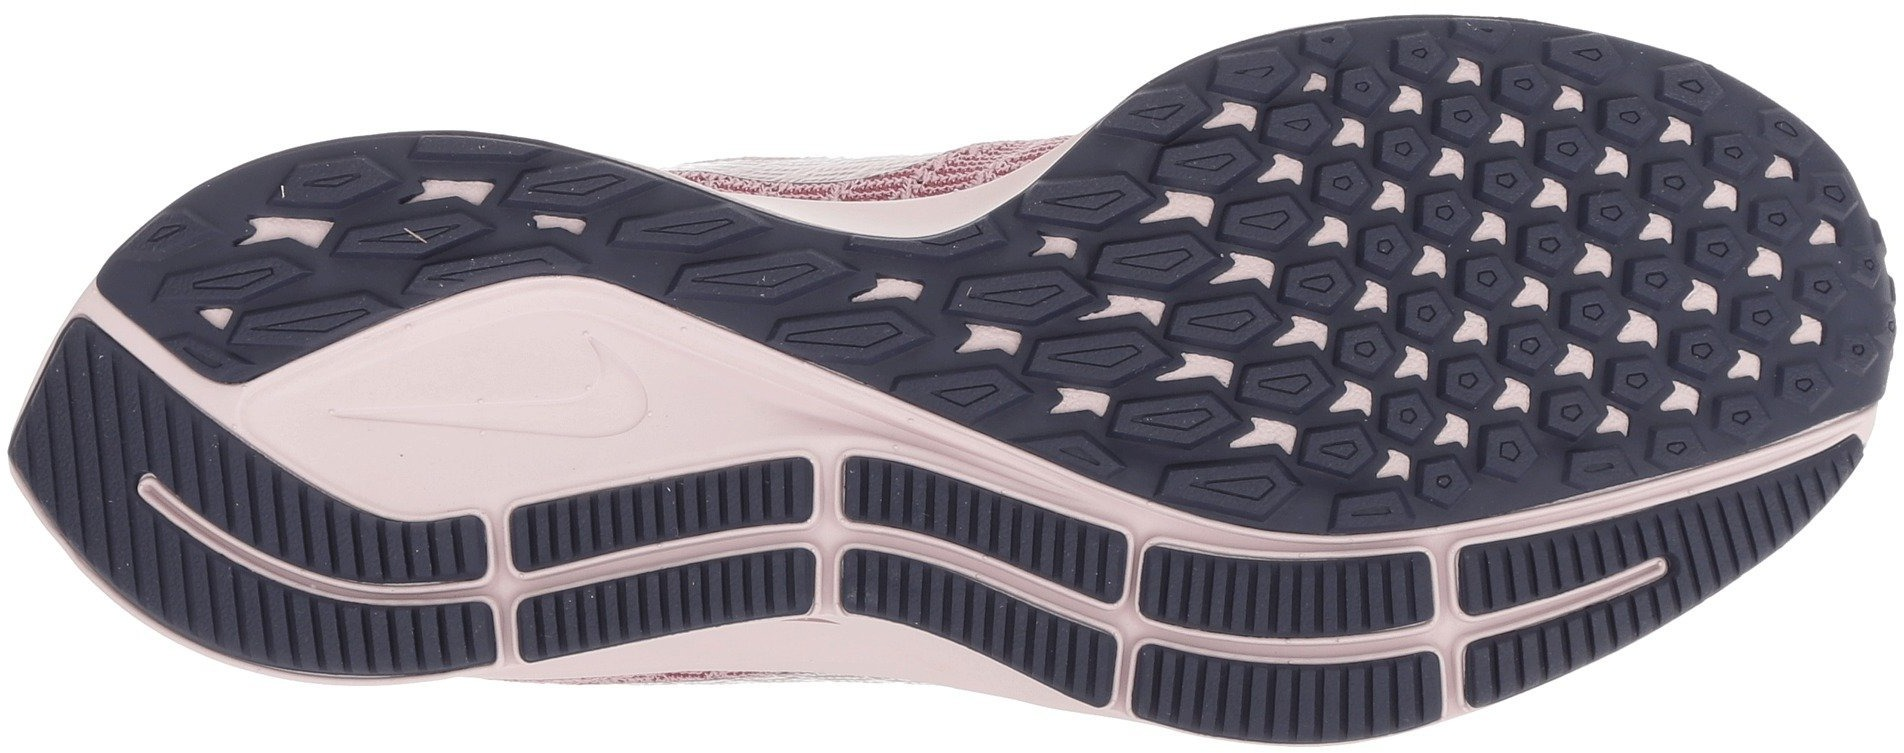polygon: (1224, 56, 1509, 342), (1552, 108, 1785, 350)
quad: (523, 470, 750, 642), (12, 378, 188, 557), (1191, 559, 1348, 732)
